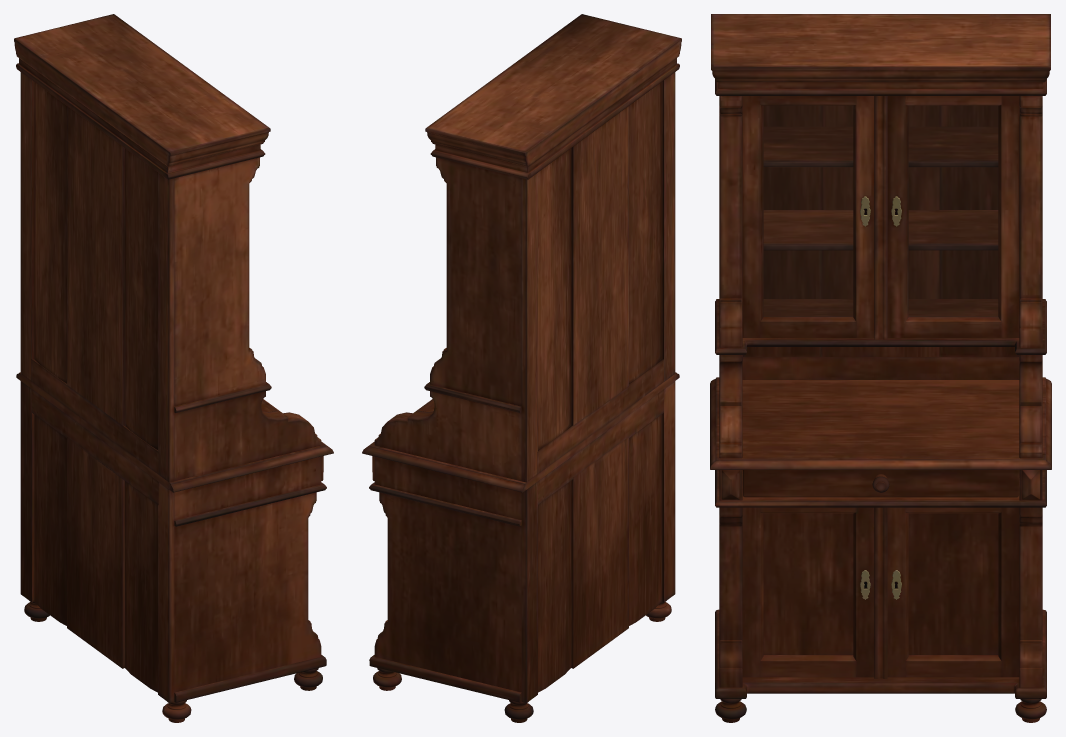
File: wardrobe_antique_matejbiskup97.glb
The picture shows the model from 3 angles, left to right: view 1: azimuth 30°, elevation 25°; view 2: azimuth 150°, elevation 25°; view 3: azimuth 270°, elevation 25°; orthographic projection. The views are drawn at different scales.
Parts seen in each view (by area): view 1: angtiqueWardrobe_wood_0; view 2: angtiqueWardrobe_wood_0; view 3: angtiqueWardrobe_wood_0, glass__0.
Boxes of the visible parts, x1,y1,x2,y2 form: angtiqueWardrobe_wood_0: (14,14,333,722); angtiqueWardrobe_wood_0: (362,14,681,722); angtiqueWardrobe_wood_0: (710,14,1051,722); glass__0: (764,106,997,316).
Bounding box in the file's own units: 0.545 × 1.84 × 0.9093.
Materials: 2 (1 with a texture image).
